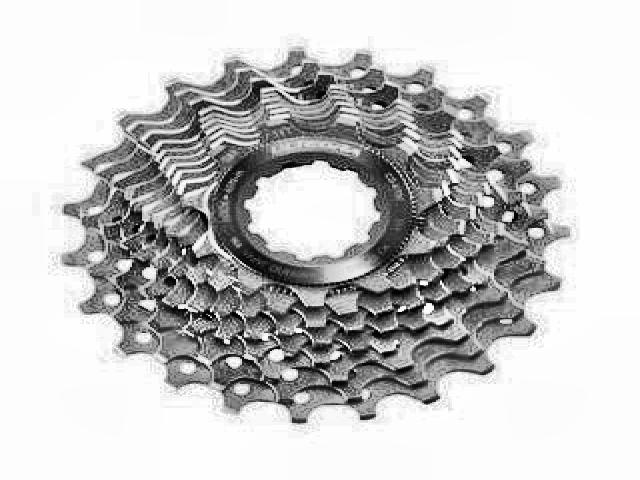cassette: (59, 42, 570, 422)
